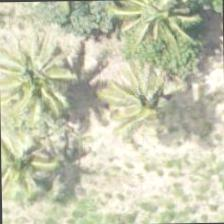Kelapa_Sawit: (110, 57, 202, 149), (10, 37, 102, 129), (113, 0, 205, 58)
